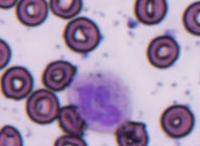N: (68, 70, 132, 133)
